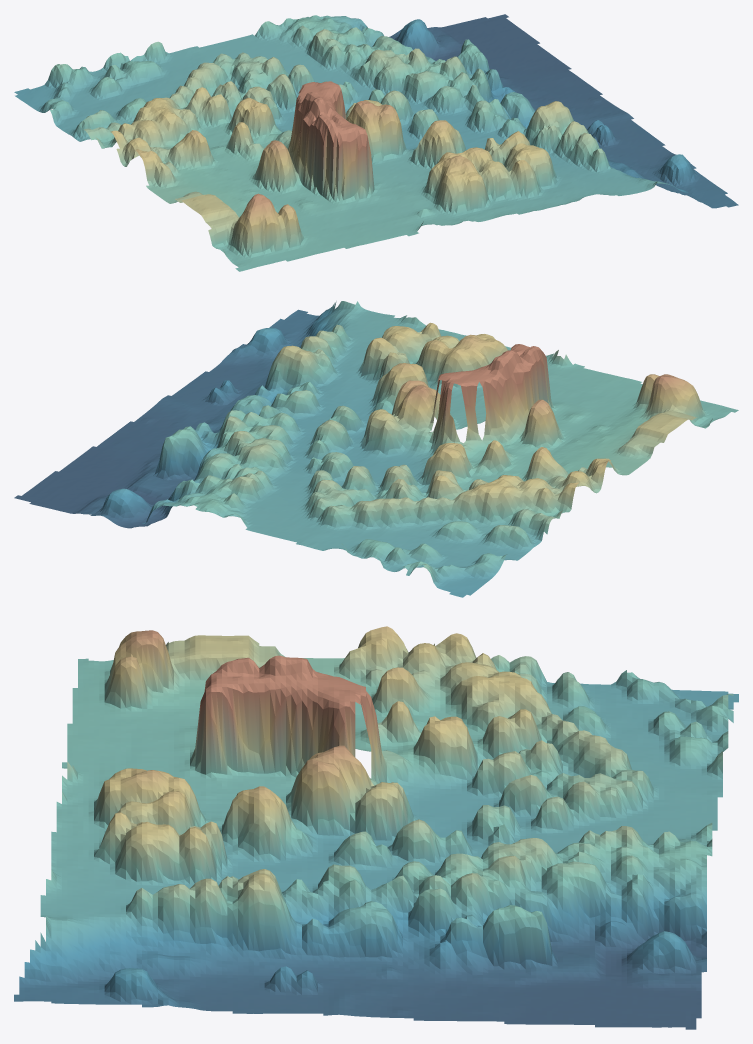
Rendered from oma084_mesh_diachronic.glb.
3 views of the same model, one above another, from view 1: azimuth 30°, elevation 25°; view 2: azimuth 150°, elevation 25°; view 3: azimuth 270°, elevation 25° (orthographic). The views are drawn at different scales.
Parts seen in each view (by area): view 1: world; view 2: world; view 3: world.
Part boxes in pixels (x1,y1,x2,y2): world: [14, 14, 738, 271]; world: [14, 301, 738, 597]; world: [14, 626, 738, 1029].
Size of the model in its own units: 213 by 47.67 by 204.
